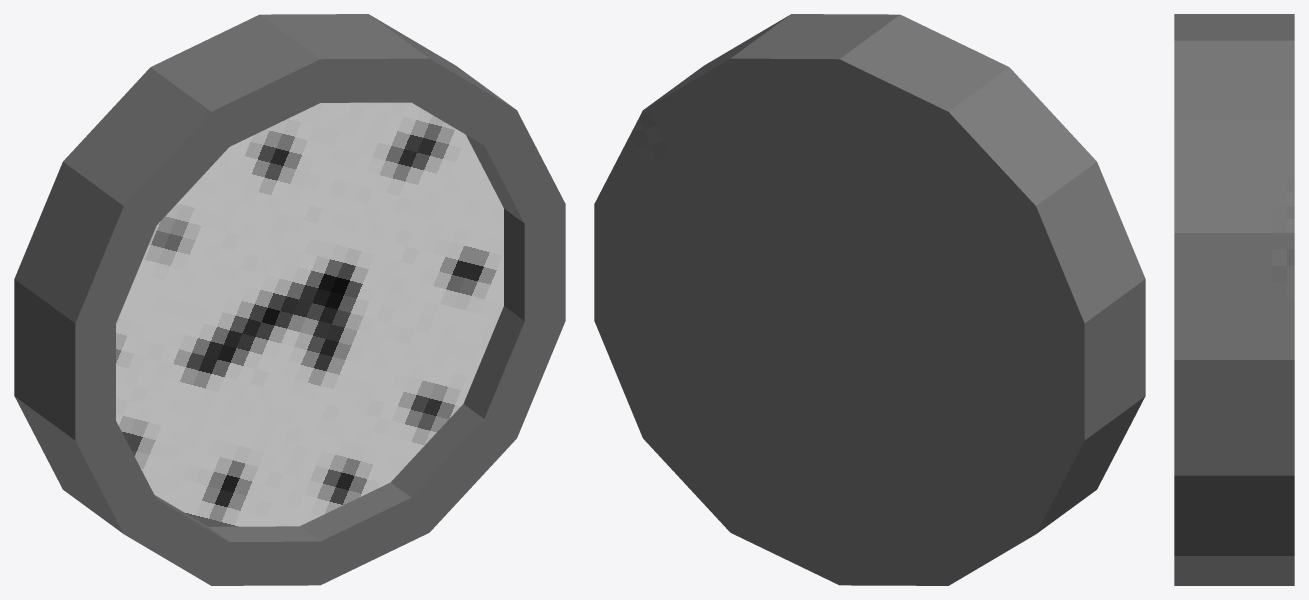
Rendered from clock.obj.
3 views of the same model, side by side, from view 1: azimuth 30°, elevation 25°; view 2: azimuth 150°, elevation 25°; view 3: azimuth 270°, elevation 25° (orthographic).
Visible parts, largest first — view 1: Cylinder; view 2: Cylinder; view 3: Cylinder.
Boxes of the visible parts, left/top/right/bottom form: Cylinder: left=14, top=14, right=565, bottom=585; Cylinder: left=594, top=14, right=1145, bottom=585; Cylinder: left=1174, top=14, right=1294, bottom=585.
Bounding box in the file's own units: 1.95 × 2 × 0.42.
